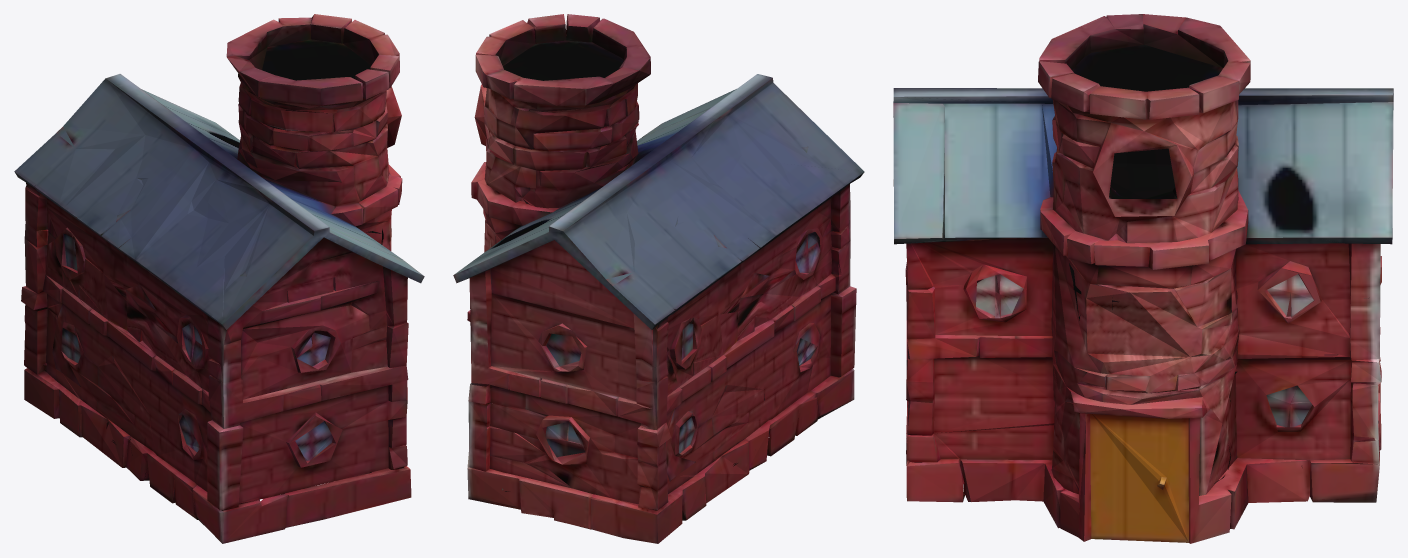
The model's file is b-school.glb.
3 renders of one model, left to right at view 1: azimuth 30°, elevation 25°; view 2: azimuth 150°, elevation 25°; view 3: azimuth 270°, elevation 25°, orthographic. The views are drawn at different scales.
Parts seen in each view (by area): view 1: geometry_0; view 2: geometry_0; view 3: geometry_0.
Part boxes in pixels (x1,y1,x2,y2): geometry_0: (14, 14, 424, 543); geometry_0: (453, 14, 864, 543); geometry_0: (893, 14, 1393, 543).
Size of the model in its own units: 0.7551 by 0.9926 by 0.9999.
1 material, 1 textured.
